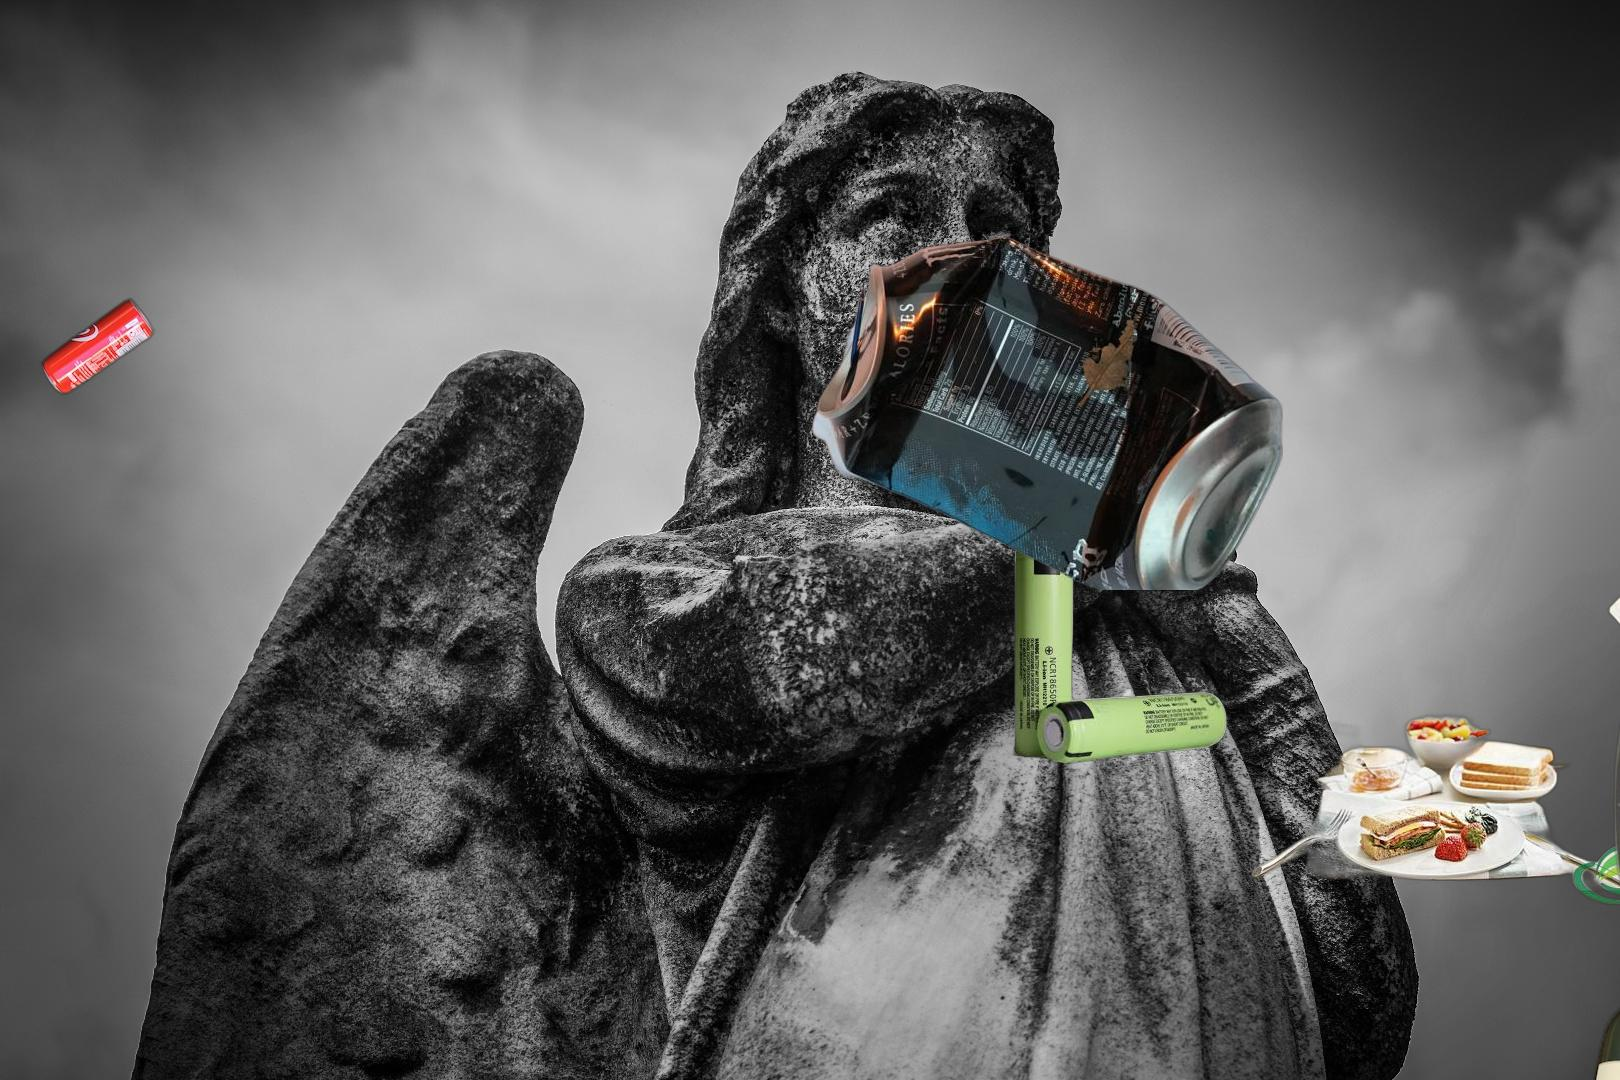battery: (1005, 542, 1229, 767)
biological: (1211, 709, 1620, 908)
glass: (1546, 880, 1620, 1080)
metal-cans: (808, 236, 1282, 589), (39, 292, 158, 399)
paper: (1606, 319, 1620, 703)
penholder: (1607, 607, 1620, 1080)
